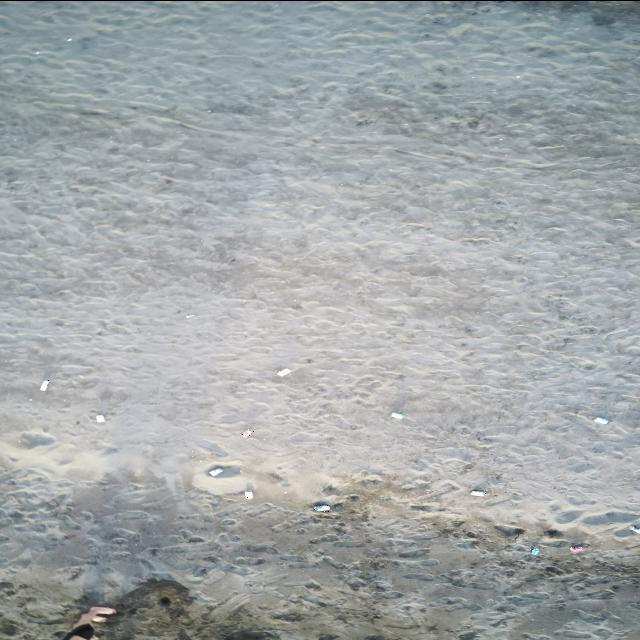Garbage: (20, 433, 55, 447), (276, 367, 291, 375), (208, 467, 223, 475), (529, 544, 539, 555), (471, 488, 486, 495), (240, 428, 253, 436), (569, 544, 583, 551), (313, 504, 329, 510), (390, 412, 403, 419), (592, 417, 607, 423), (40, 379, 48, 390), (628, 524, 639, 532), (244, 491, 252, 499), (96, 413, 103, 422), (186, 313, 193, 318), (65, 36, 71, 40)
